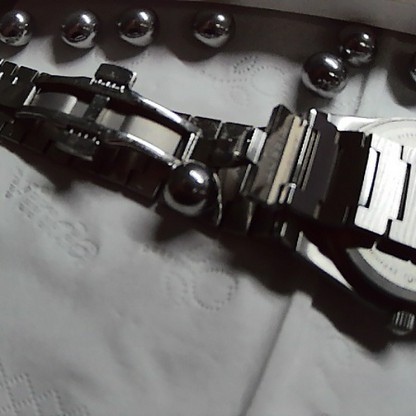ironball: (167, 157, 217, 216), (181, 1, 241, 49), (296, 51, 351, 100), (52, 5, 107, 50), (335, 21, 374, 67), (117, 2, 156, 45), (0, 8, 38, 51)
